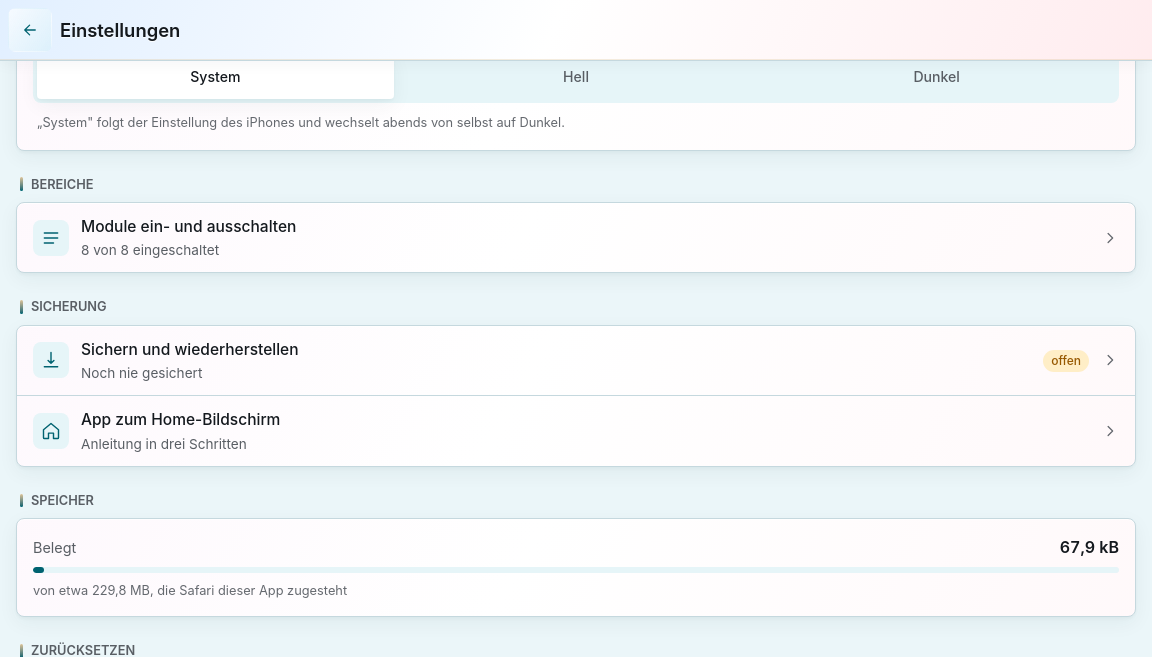
Test: SettingsScreen › sagt in der Sicherung nüchtern, was ohne sie passiert
(page scrolled)
Click the button "Sichern und wiederherstellen Noch nie gesichert offen" at (51, 360), box [17, 326, 1135, 395]
(page scrolled)
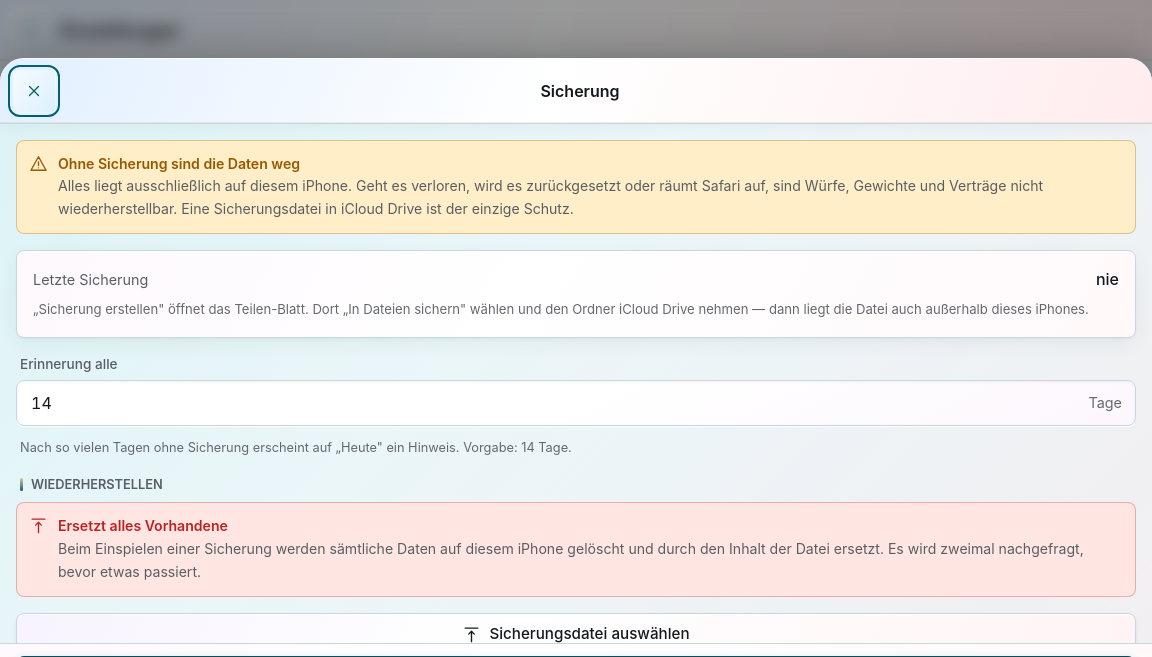
expect the text "Ohne Sicherung sind die Daten weg" is shown: met, box [58, 155, 300, 172]
expect the text "Ersetzt alles Vorhandene" is shown: met, box [58, 517, 228, 534]
expect the button "Sicherungsdatei auswählen" is shown: met, box [16, 612, 1136, 643]
